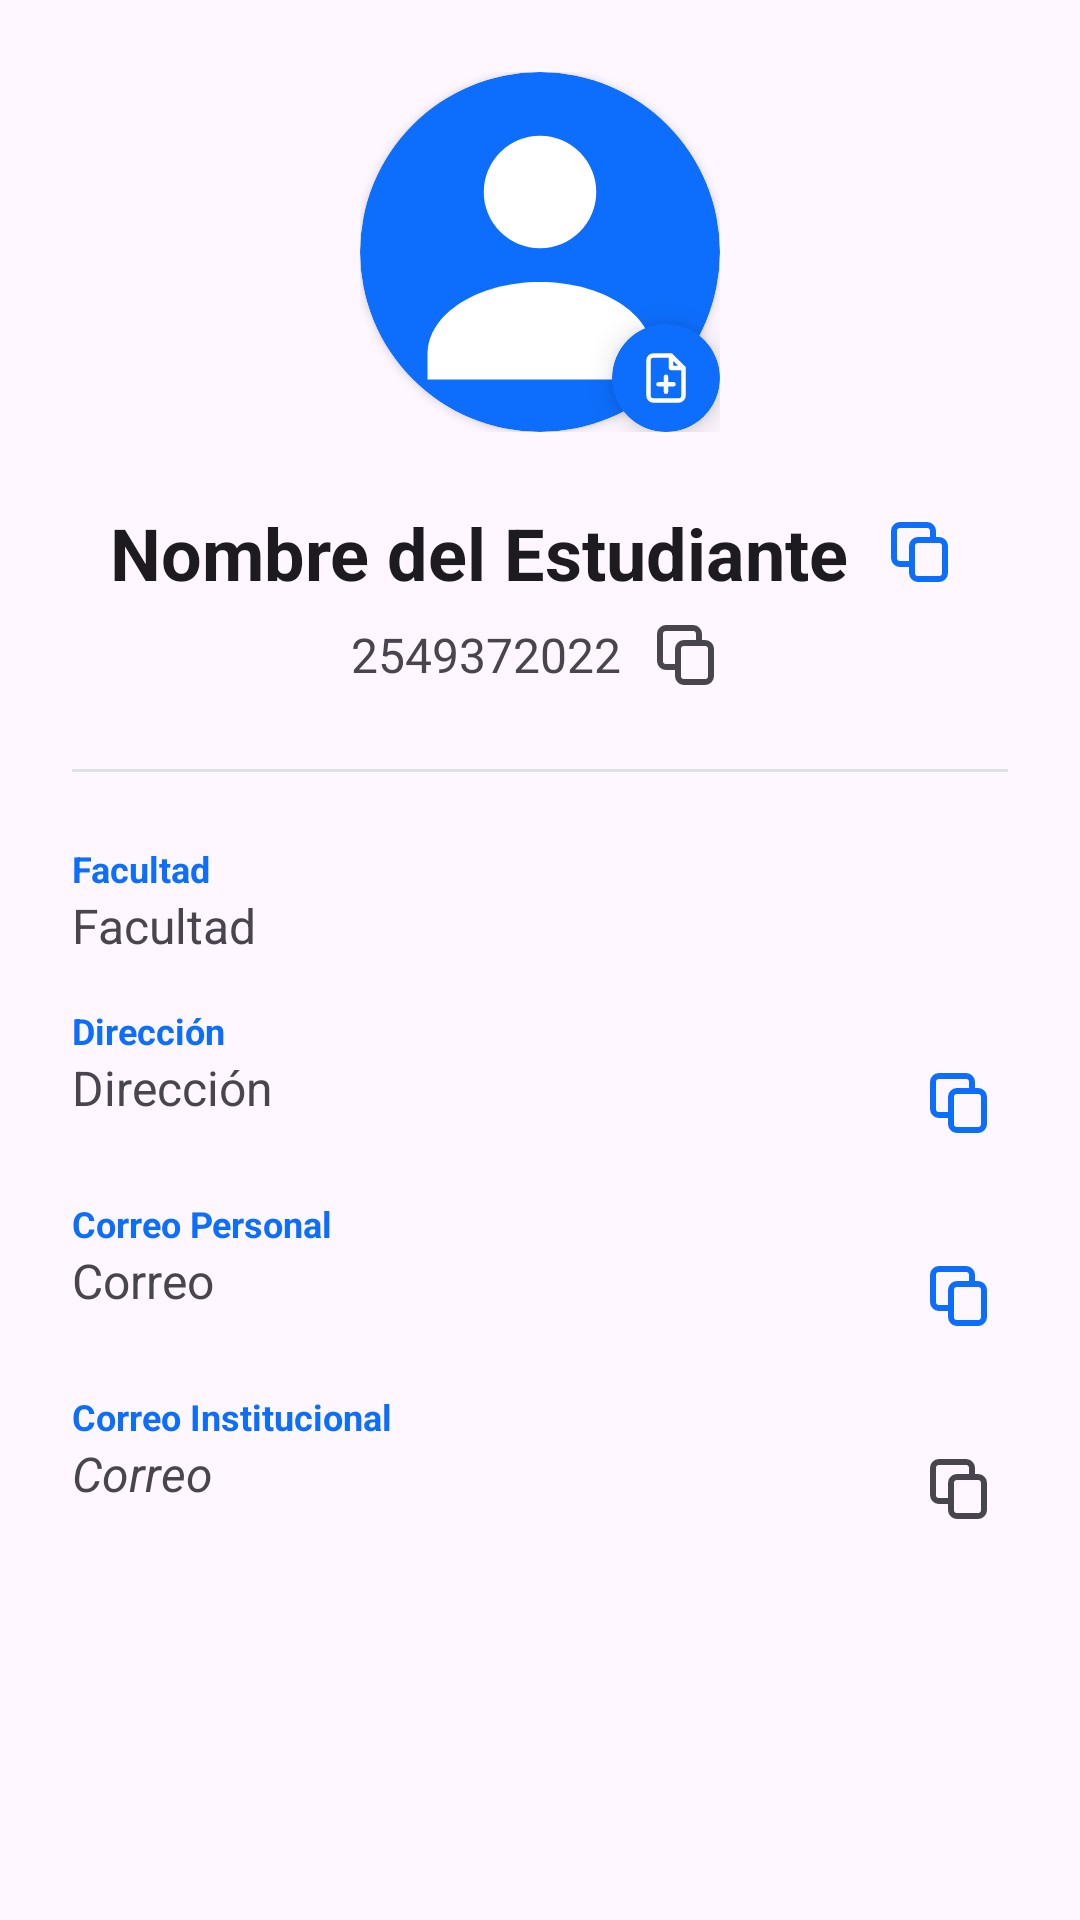

Locate icon controls on the screen. Image size 1080px x 1920px, boxes as (x1, y1, x2, y2).
Copiar carnet: (657, 625, 714, 685)
Copiar nombre: (891, 522, 948, 582)
